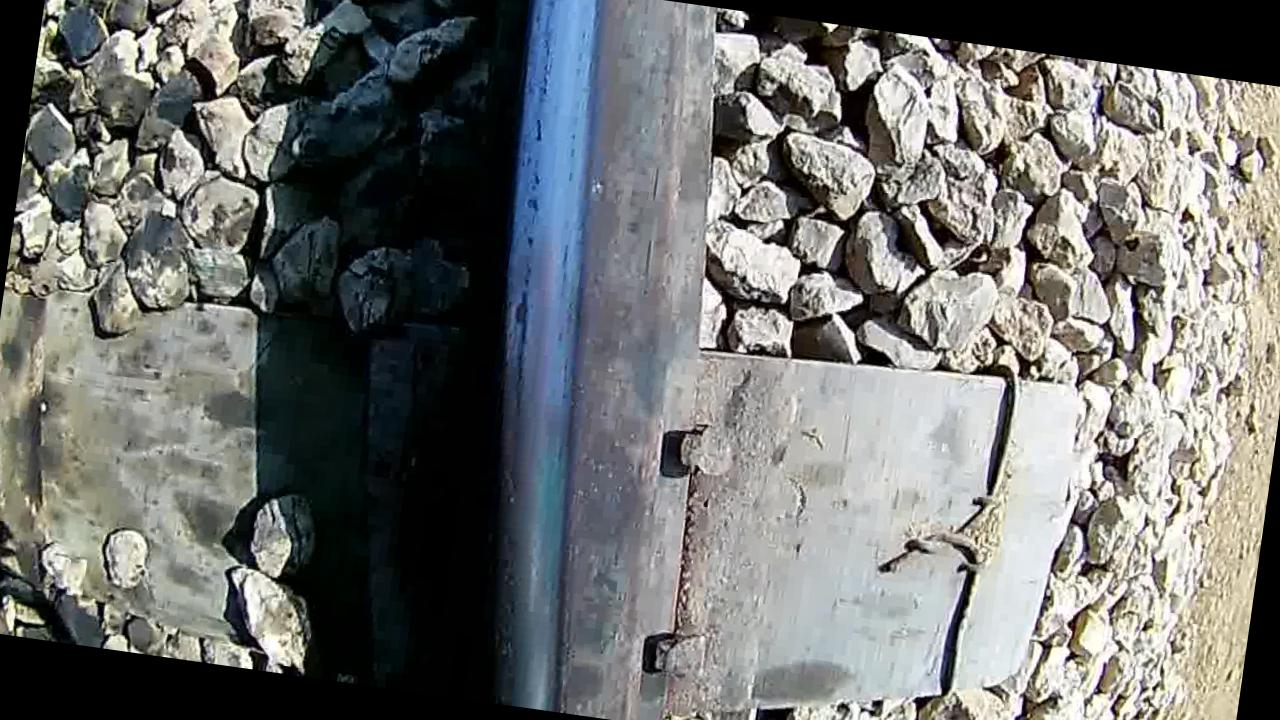crack: (433, 0, 702, 718)
